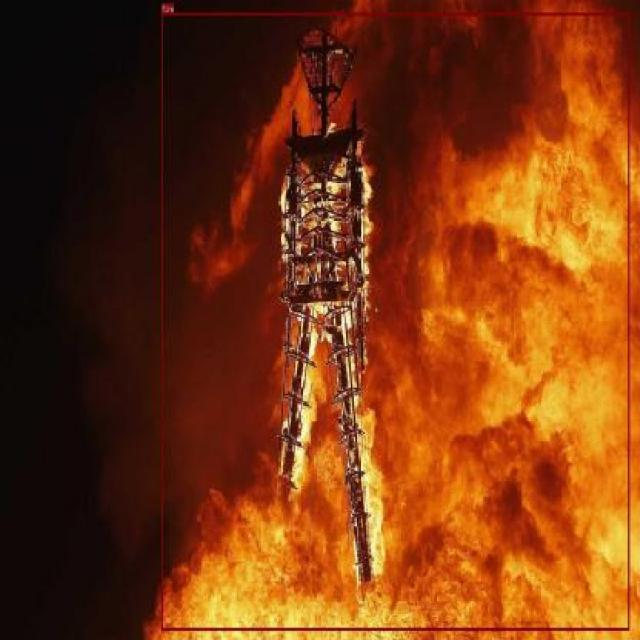Fire: (161, 13, 630, 630)
